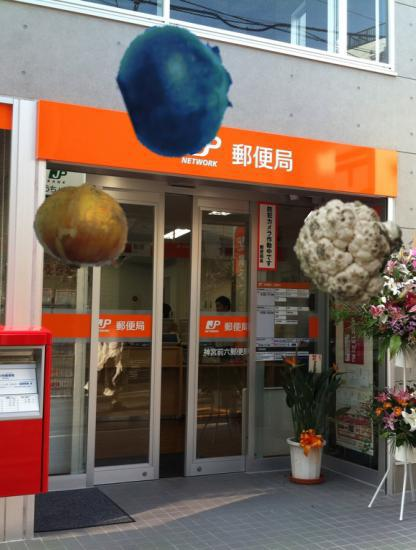Cauliflower: (296, 196, 403, 303)
Huckleberry: (110, 22, 245, 157)
Onion: (32, 176, 132, 276)
